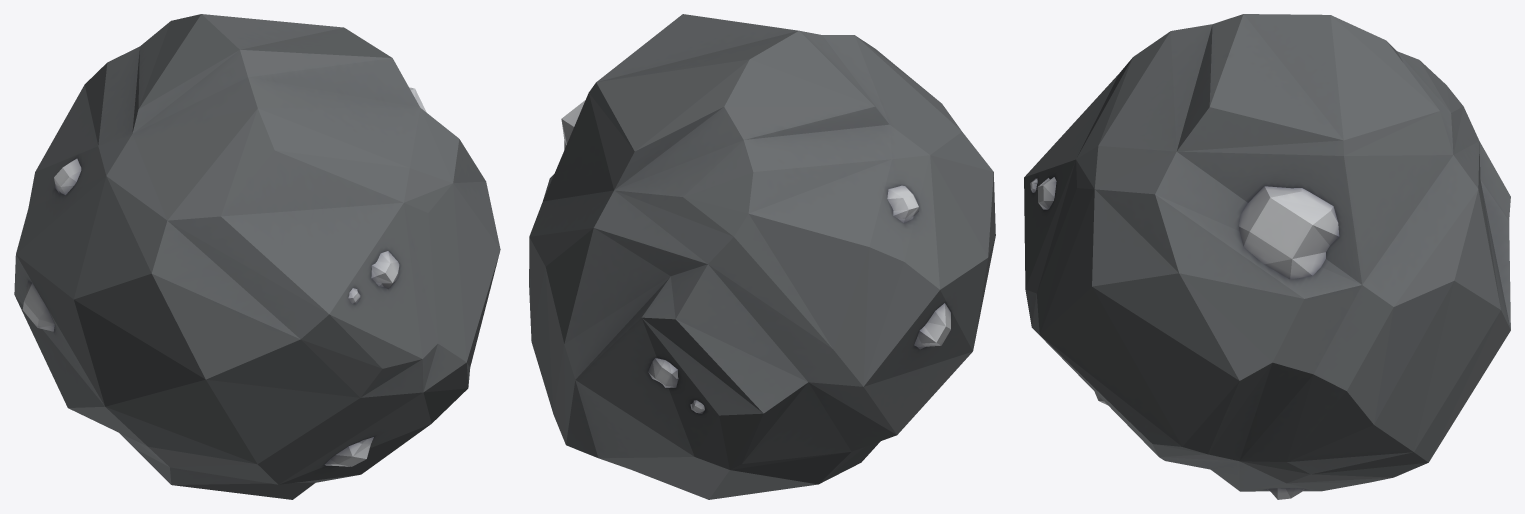
The model's file is Stone_Trick_01.FBX.
3 renders of one model, left to right at view 1: azimuth 30°, elevation 25°; view 2: azimuth 150°, elevation 25°; view 3: azimuth 270°, elevation 25°, orthographic.
Parts seen in each view (by area): view 1: Stone_Trick_01; view 2: Stone_Trick_01; view 3: Stone_Trick_01.
Part boxes in pixels (x1,y1,x2,y2): Stone_Trick_01: [14, 14, 500, 499]; Stone_Trick_01: [529, 14, 995, 499]; Stone_Trick_01: [1024, 14, 1510, 499].
Bounding box in the file's own units: 10.42 × 10.8 × 10.47.
